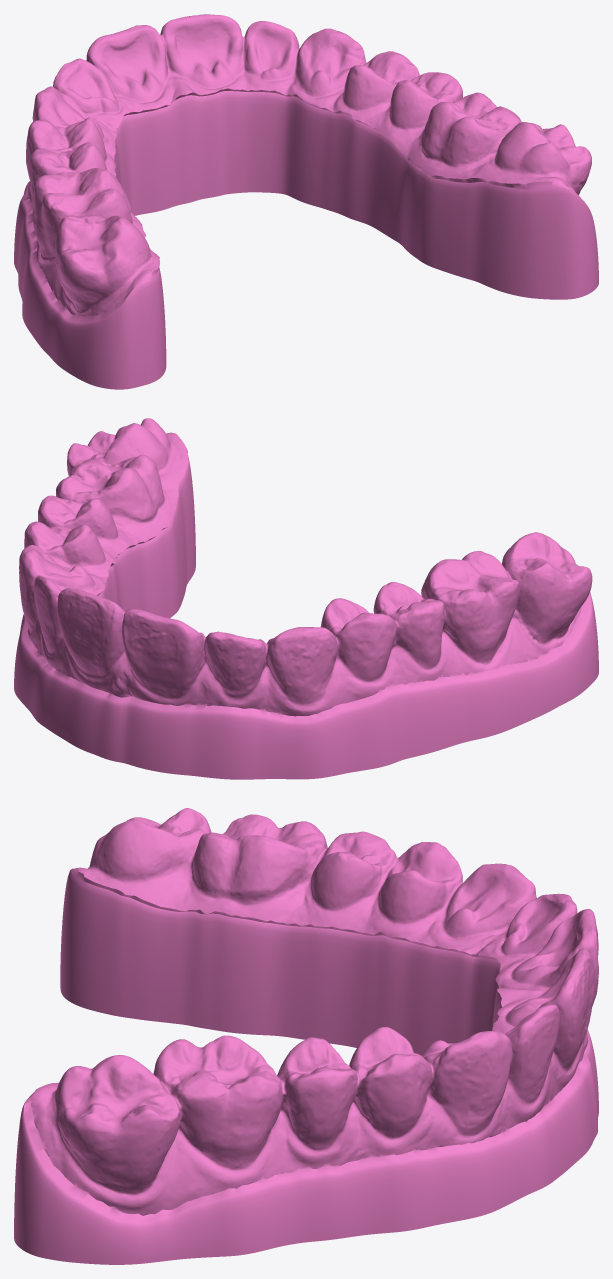
3 views of the same model, one above another, from view 1: azimuth 30°, elevation 25°; view 2: azimuth 150°, elevation 25°; view 3: azimuth 270°, elevation 25° (orthographic). The views are drawn at different scales.
Visible parts, largest first — view 1: Object_2; view 2: Object_2; view 3: Object_2.
Part boxes in pixels (box(x1,y1,x2,y2)): Object_2: box(14, 14, 598, 389); Object_2: box(14, 418, 598, 779); Object_2: box(14, 808, 598, 1264).
Size of the model in its own units: 1 by 0.2839 by 0.8115.
